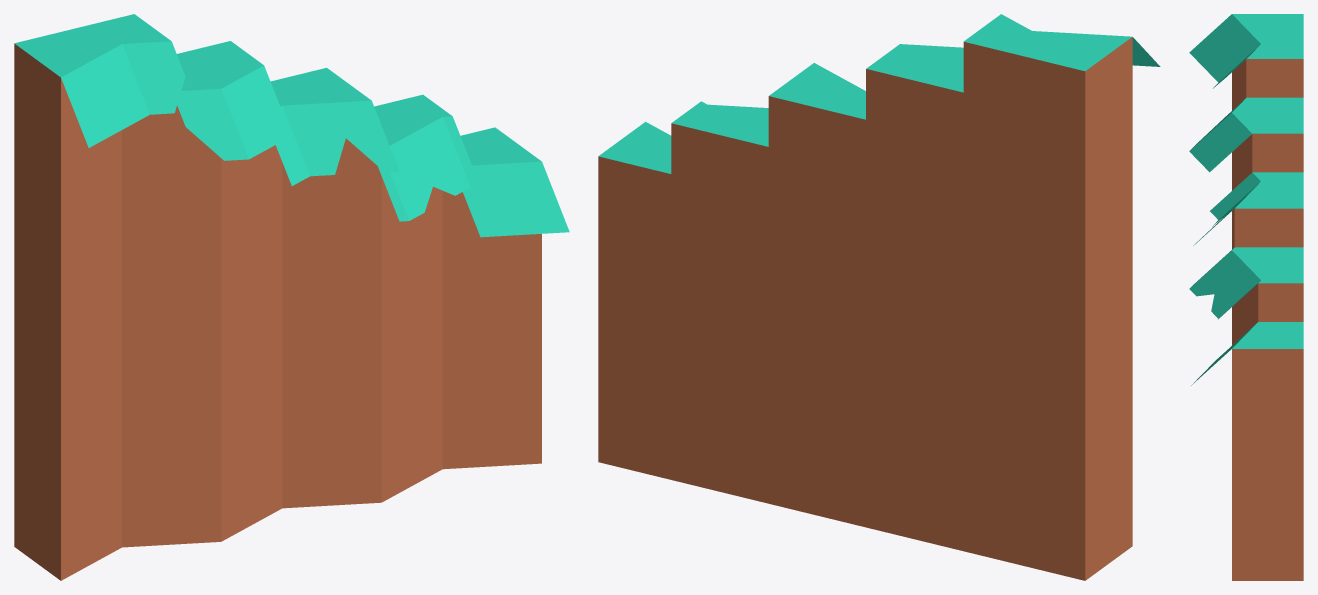
The model's file is cliff_stairBorder_upper_left_rock.fbx.
The picture shows the model from 3 angles, left to right: view 1: azimuth 30°, elevation 25°; view 2: azimuth 150°, elevation 25°; view 3: azimuth 270°, elevation 25°; orthographic projection. The views are drawn at different scales.
Parts seen in each view (by area): view 1: cliff_top_rock; view 2: cliff_top_rock; view 3: cliff_top_rock.
Part boxes in pixels (bbox=[...]): cliff_top_rock: bbox=[14, 14, 569, 580]; cliff_top_rock: bbox=[598, 14, 1160, 580]; cliff_top_rock: bbox=[1189, 14, 1303, 580].
Bounding box in the file's own units: 10 × 10 × 2.68.
